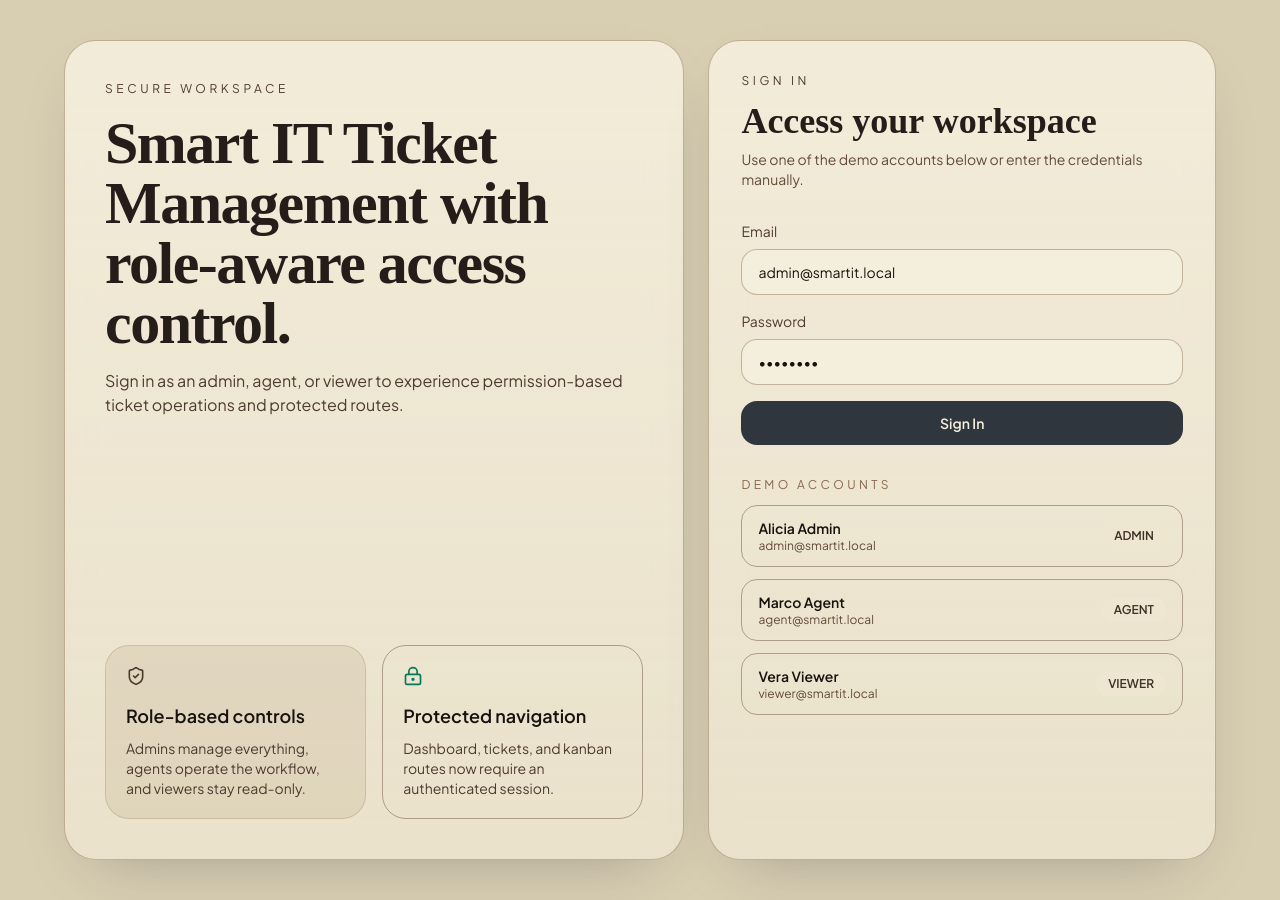
Test case: LoginPage › autofills credentials from a demo account button
Click the button "Vera Viewer viewer@smartit.local VIEWER".
click(798, 676)  # box [741,653,1183,715]
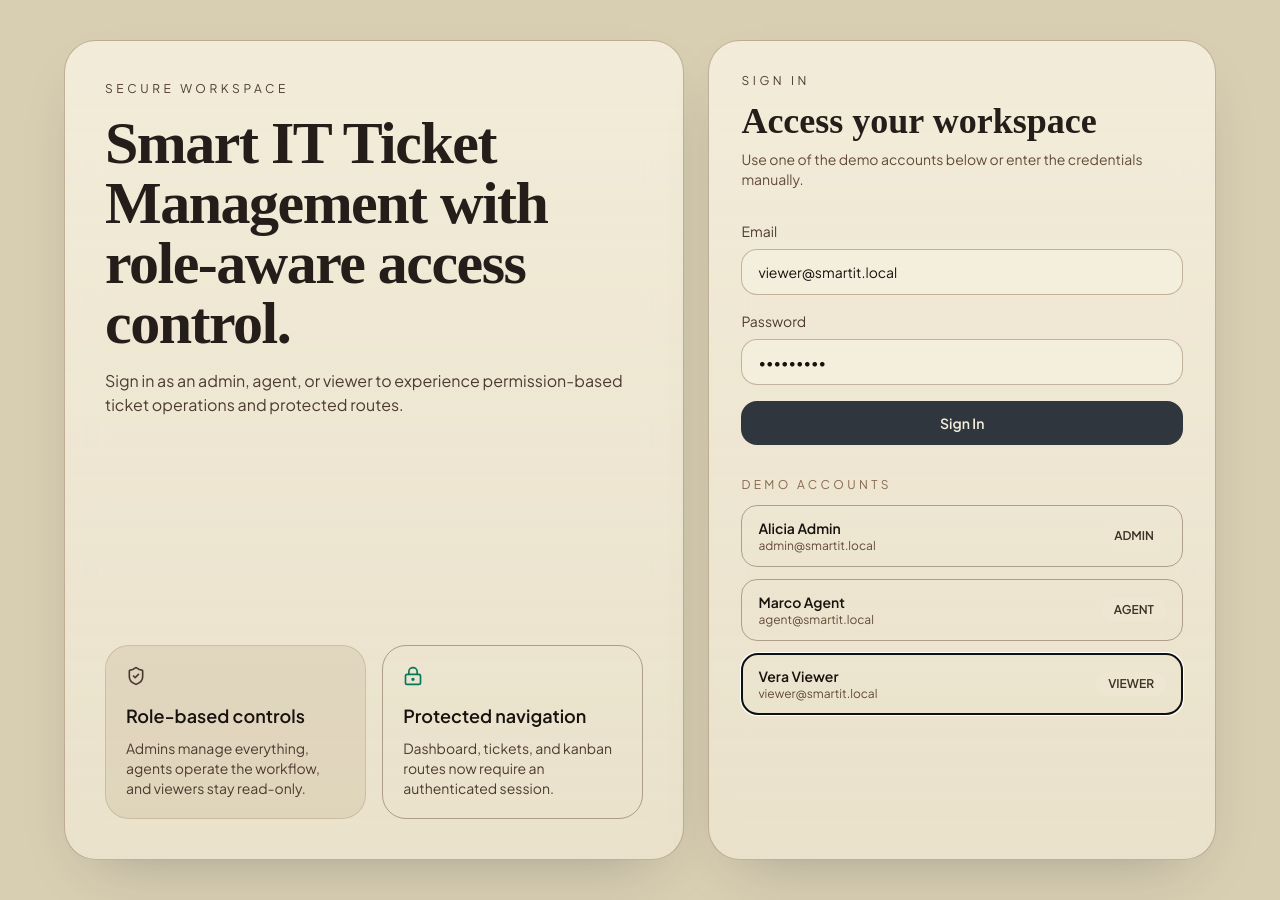
Expected: the password field labelled "Password" holds "viewer123", [741,339,1183,385]
Expected: the field labelled "Email" holds "viewer@smartit.local", [741,249,1183,295]
